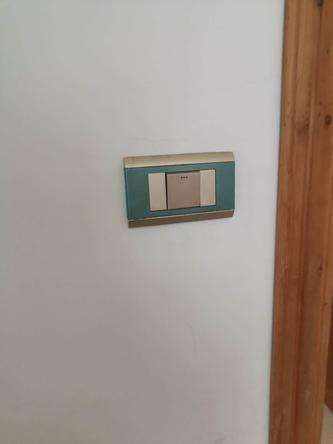switch: (165, 170, 202, 207)
